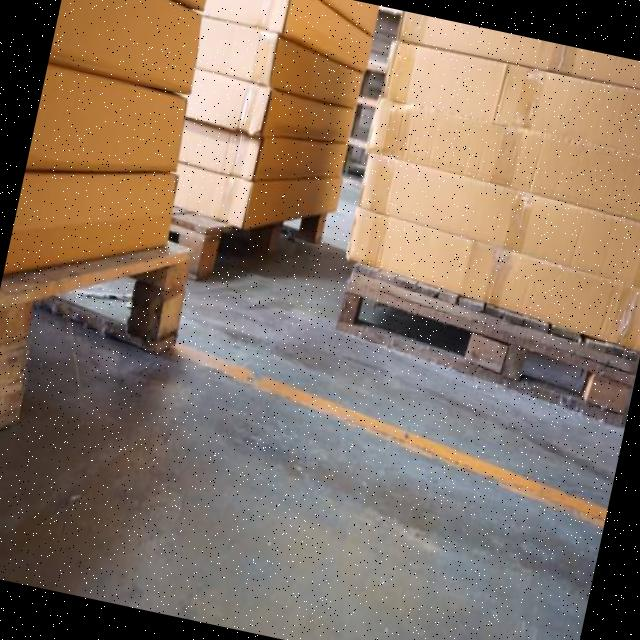Wooden-Pallets: (337, 260, 639, 414), (0, 244, 197, 407)
